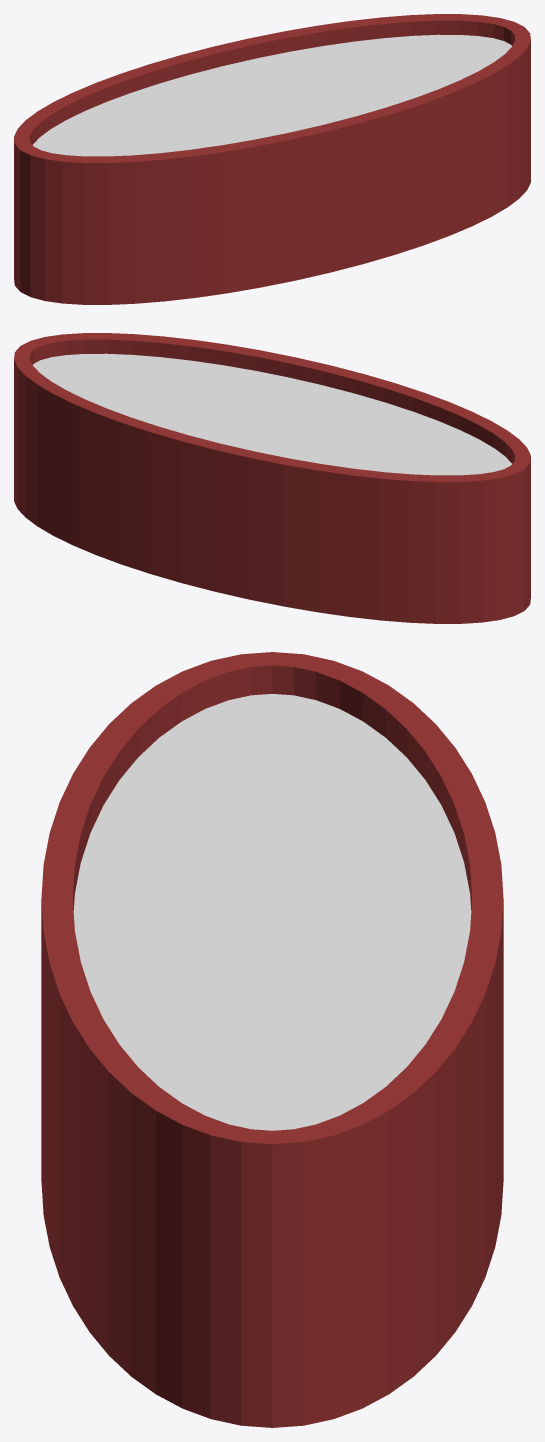
Rendered from serSU.glb.
The picture shows the model from 3 angles, top to bottom: view 1: azimuth 30°, elevation 25°; view 2: azimuth 150°, elevation 25°; view 3: azimuth 270°, elevation 25°; orthographic projection. The views are drawn at different scales.
Parts seen in each view (by area): view 1: serSU; view 2: serSU; view 3: serSU.
Part boxes in pixels (<box>): serSU: <box>14,14,530,304</box>; serSU: <box>14,333,530,623</box>; serSU: <box>41,652,503,1427</box>.
Size of the model in its own units: 0.0221 by 0.00594 by 0.00876.
